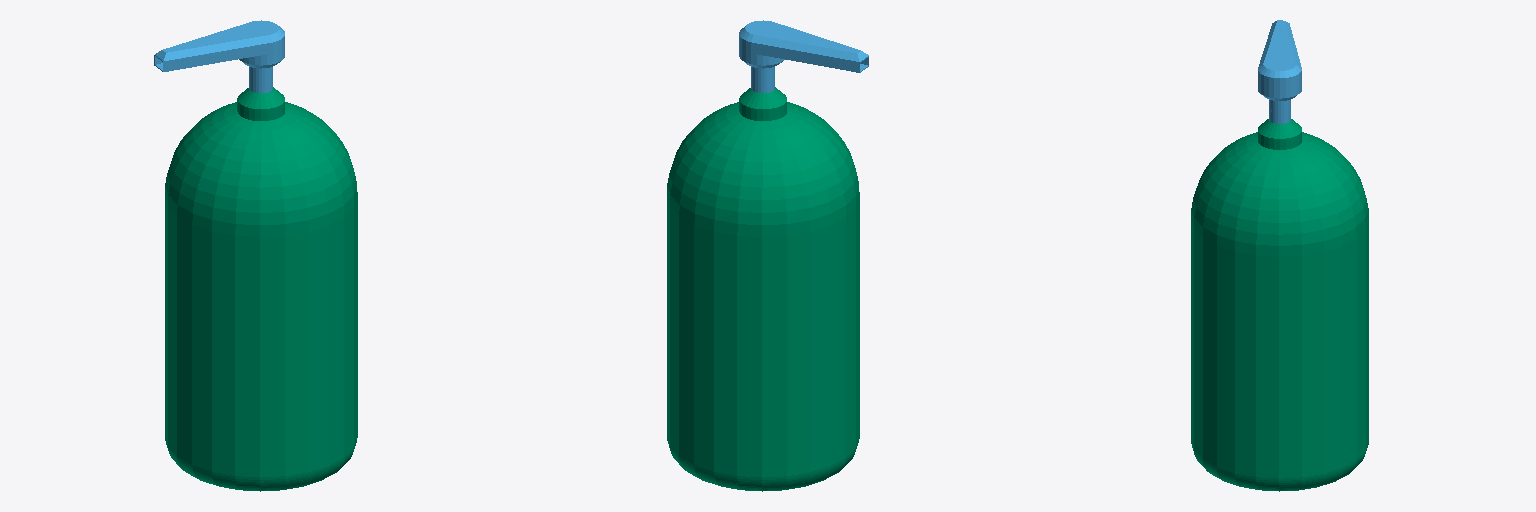
The robot description file, URDF, robot "partnet_5ca994bd512be485db3bac7ad77ae88e":
<?xml version="1.0" ?>
<robot name="partnet_5ca994bd512be485db3bac7ad77ae88e">
	<link name="base"/>
	<link name="link_0">
		<visual name="pressing_lid-4">
			<origin xyz="0.008755063991076967 0 0.01370572210229435"/>
			<geometry>
				<mesh filename="textured_objs/original-2.obj"/>
			</geometry>
		</visual>
		<visual name="pressing_lid-4">
			<origin xyz="0.008755063991076967 0 0.01370572210229435"/>
			<geometry>
				<mesh filename="textured_objs/original-3.obj"/>
			</geometry>
		</visual>
		<visual name="pressing_lid-4">
			<origin xyz="0.008755063991076967 0 0.01370572210229435"/>
			<geometry>
				<mesh filename="textured_objs/original-4.obj"/>
			</geometry>
		</visual>
		<collision>
			<origin xyz="0.008755063991076967 0 0.01370572210229435"/>
			<geometry>
				<mesh filename="textured_objs/original-2.obj"/>
			</geometry>
		</collision>
		<collision>
			<origin xyz="0.008755063991076967 0 0.01370572210229435"/>
			<geometry>
				<mesh filename="textured_objs/original-3.obj"/>
			</geometry>
		</collision>
		<collision>
			<origin xyz="0.008755063991076967 0 0.01370572210229435"/>
			<geometry>
				<mesh filename="textured_objs/original-4.obj"/>
			</geometry>
		</collision>
	</link>
	<joint name="joint_0" type="fixed">
		<origin xyz="0.0 0 0.0"/>
		<axis xyz="0 1 0"/>
		<child link="link_0"/>
		<parent link="link_0_helper"/>
	</joint>
	<link name="link_1">
		<visual name="base_body-5">
			<origin xyz="0 0 0"/>
			<geometry>
				<mesh filename="textured_objs/original-1.obj"/>
			</geometry>
		</visual>
		<collision>
			<origin xyz="0 0 0"/>
			<geometry>
				<mesh filename="textured_objs/original-1.obj"/>
			</geometry>
		</collision>
	</link>
	<joint name="joint_1" type="fixed">
		<origin rpy="1.570796326794897 0 -1.570796326794897" xyz="0 0 0"/>
		<child link="link_1"/>
		<parent link="base"/>
	</joint>
	<link name="link_0_helper"/>
	<joint name="joint_2" type="prismatic">
		<origin xyz="-0.008755063991076967 0 -0.01370572210229435"/>
		<axis xyz="0 -1 0"/>
		<child link="link_0_helper"/>
		<parent link="link_1"/>
		<limit lower="-0.1" upper="0.1"/>
	</joint>
</robot>

--- Render facts (derived) ---
3 views of the same robot in one strip: view 1: azimuth 30°, elevation 25°; view 2: azimuth 150°, elevation 25°; view 3: azimuth 270°, elevation 25° (orthographic).
Model partnet_5ca994bd512be485db3bac7ad77ae88e with 4 links and 3 joints (1 prismatic, 2 fixed), rooted at base, posed all joints at 0.
Visible links, largest first — view 1: link_1, link_0; view 2: link_1, link_0; view 3: link_1, link_0.
Link boxes in pixels (left/top/right/bottom): link_1: left=165, top=87, right=357, bottom=491; link_0: left=154, top=20, right=284, bottom=92; link_1: left=667, top=87, right=859, bottom=491; link_0: left=739, top=20, right=868, bottom=92; link_1: left=1191, top=119, right=1368, bottom=491; link_0: left=1258, top=20, right=1301, bottom=123.
Size in the robot's own frame: 0.7694 by 0.6934 by 1.71 metres.
4 mesh visuals loaded from 4 distinct referenced files (4 OBJ).